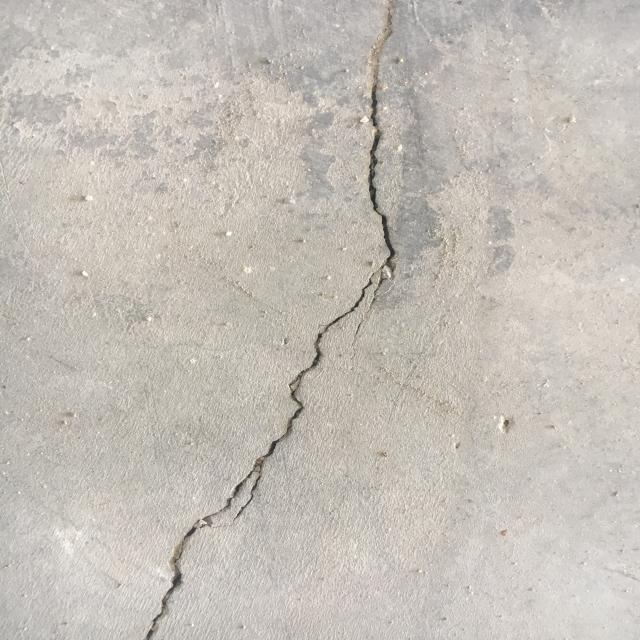Rachadura: (135, 0, 402, 640)
